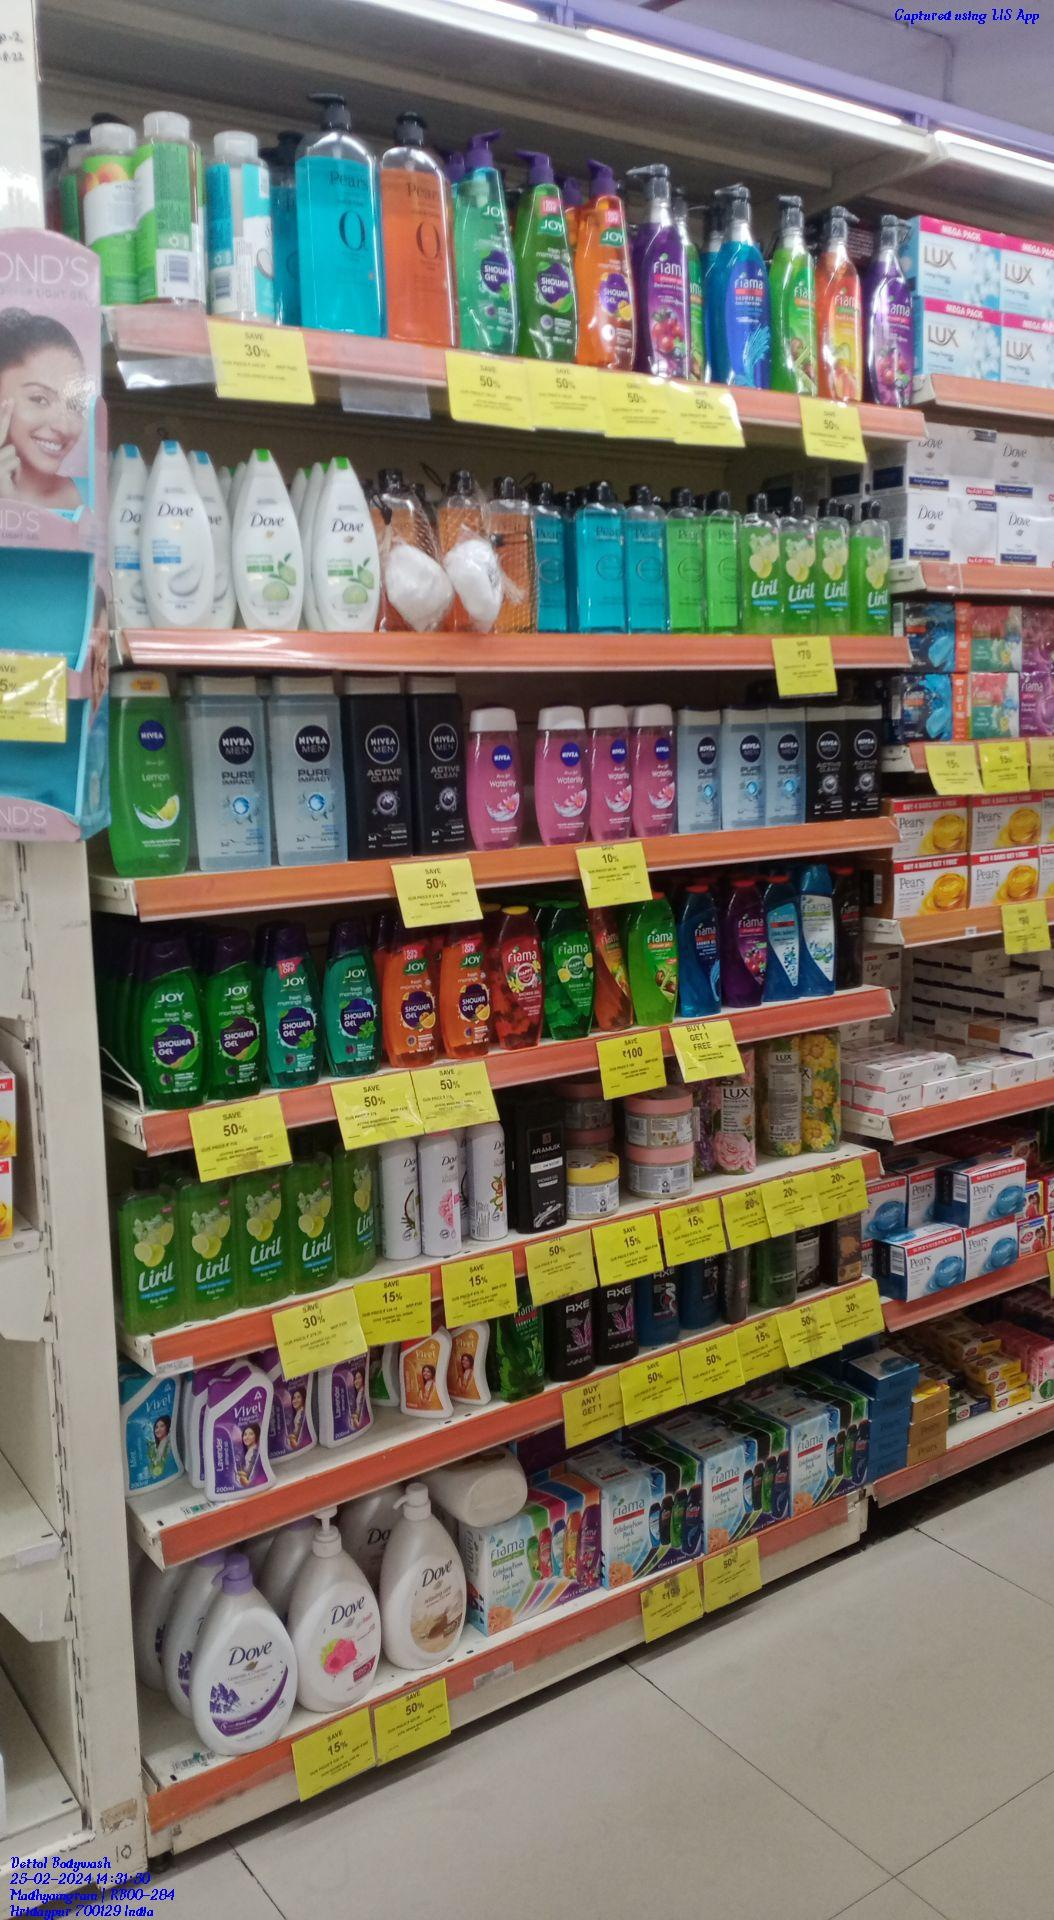Fiama_Shower_Gel_Lemongrass_and_Jojoba_250ML: (630, 887, 676, 1026)
Joy_Shower_Gel_Mandarin_and_Lemongrass_250ML: (383, 909, 439, 1070), (443, 913, 493, 1056)
Joy_Shower_Gel_Mint_and_Eucalyptus_250ML: (258, 921, 318, 1087), (325, 915, 378, 1077)
Liril_Lime_and_Tea_Tree_Oil_Body_Wash_250ML: (121, 1164, 177, 1327), (180, 1166, 231, 1317), (288, 1136, 334, 1293), (236, 1169, 284, 1302), (339, 1135, 382, 1280), (854, 499, 892, 634), (745, 492, 780, 633), (783, 493, 818, 634), (819, 497, 850, 633)
Nivea_Shower_Gel_Lemon_and_Oil_250ML: (113, 671, 186, 877)
Nivea_Shower_Gel_Waterlily_and_Oil_250ML: (470, 706, 518, 848), (539, 704, 587, 842), (588, 706, 633, 841), (637, 706, 678, 835)
Pears_Pure_Glycerin_and_Lemon_Flower_Extracts_Body_Wash_250ML: (670, 486, 707, 632), (710, 490, 741, 634)
Pears_Pure_Glycerin_and_Mint_Extracts_Body_Wash_250ML: (578, 480, 624, 632), (627, 484, 667, 634)
